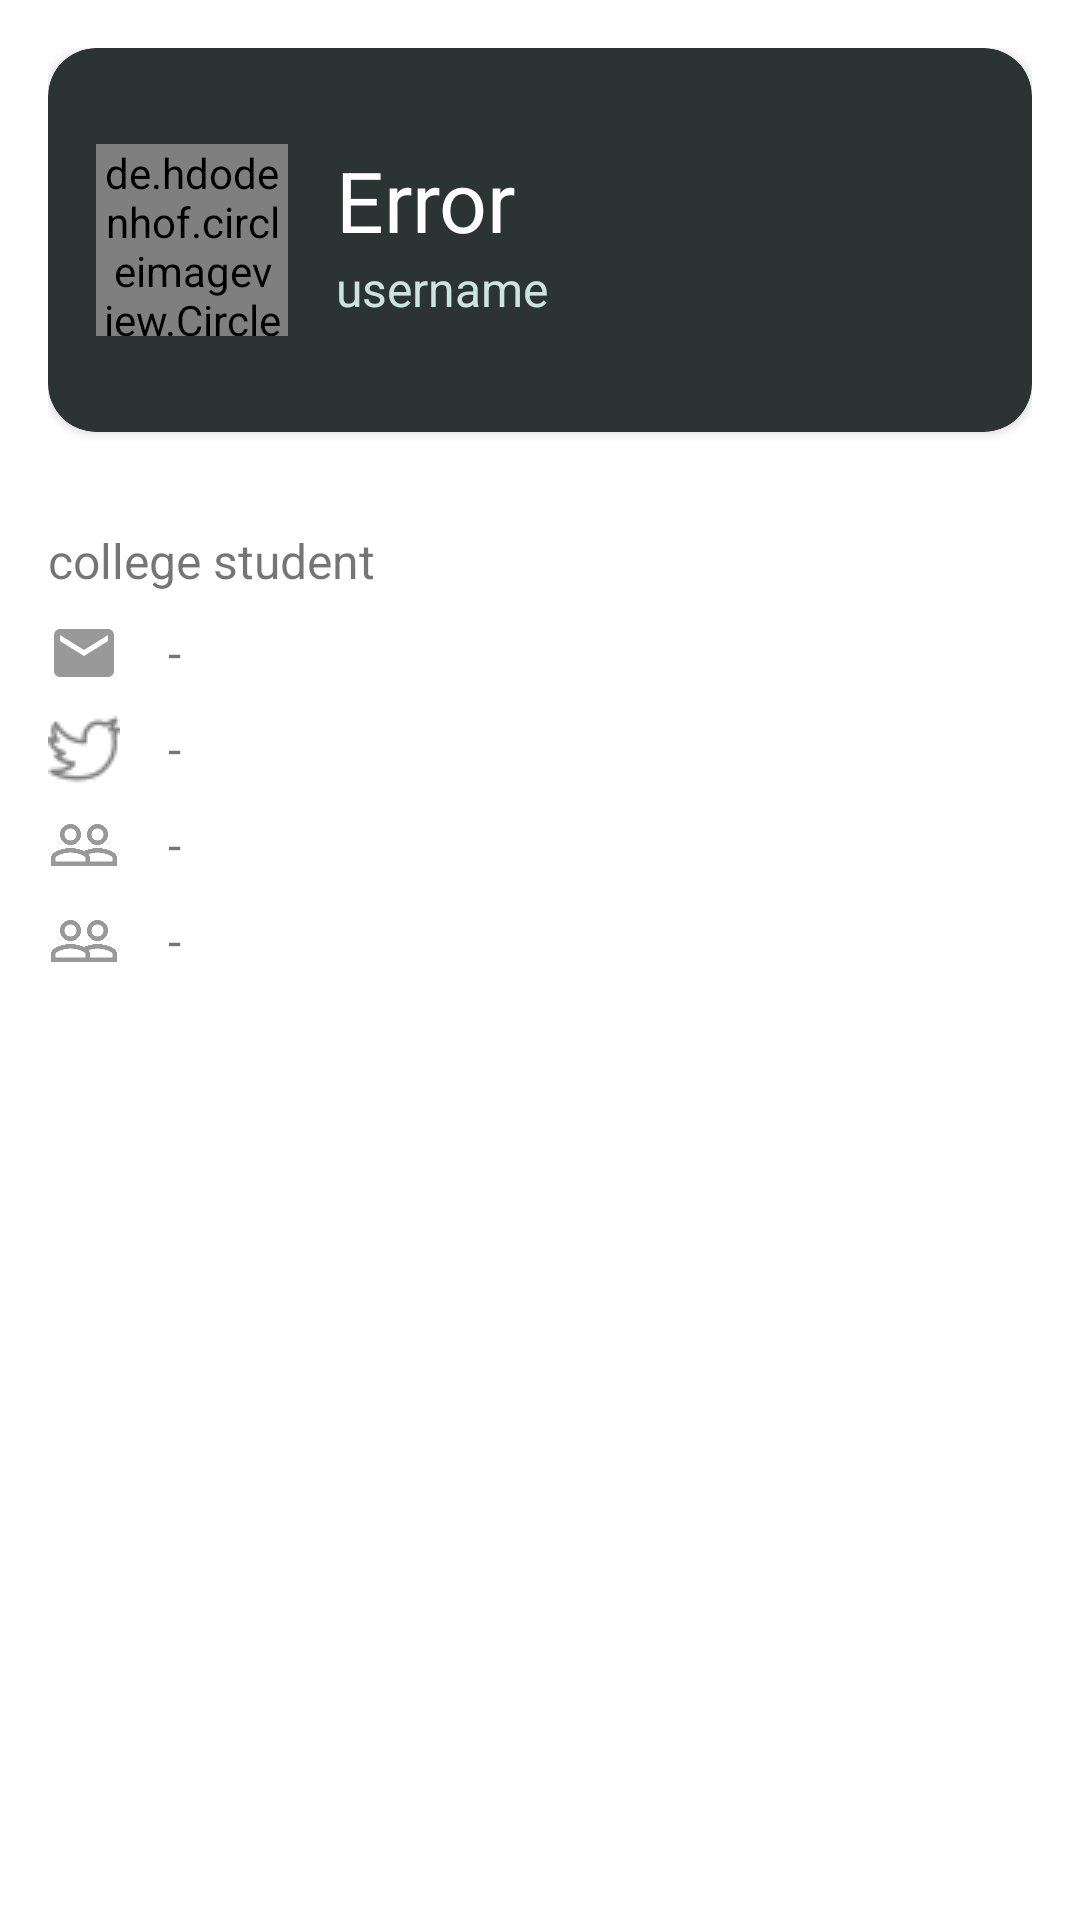

Named icons in this screenshot (1080 x 1920) and their bounding boxes, (x1, y1, x2, y2):
email: (54, 629, 114, 677)
people: (51, 824, 117, 866), (51, 920, 117, 962)
